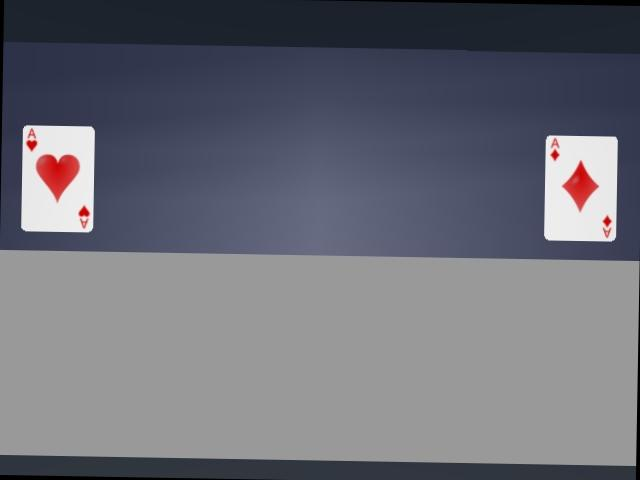diamond: (544, 135, 617, 241)
heart: (21, 125, 94, 231)
